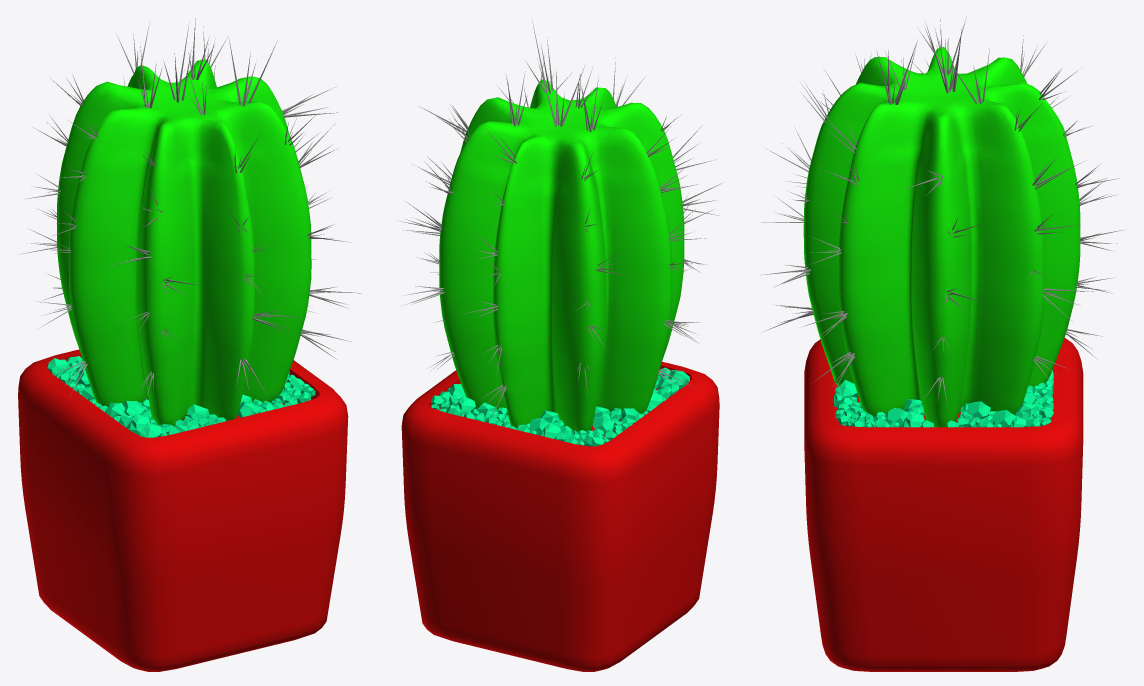
File: A_AH_LittlePlantInPot_Style003_001.fbx
The picture shows the model from 3 angles, left to right: view 1: azimuth 30°, elevation 25°; view 2: azimuth 150°, elevation 25°; view 3: azimuth 270°, elevation 25°; orthographic projection. The views are drawn at different scales.
Visible parts, largest first — view 1: Piquant; view 2: Piquant; view 3: Piquant.
Part boxes in pixels (bbox=[...]): Piquant: bbox=[18, 18, 361, 671]; Piquant: bbox=[397, 21, 723, 671]; Piquant: bbox=[760, 17, 1124, 671].
Bounding box in the file's own units: 45.46 × 84.79 × 46.8.
